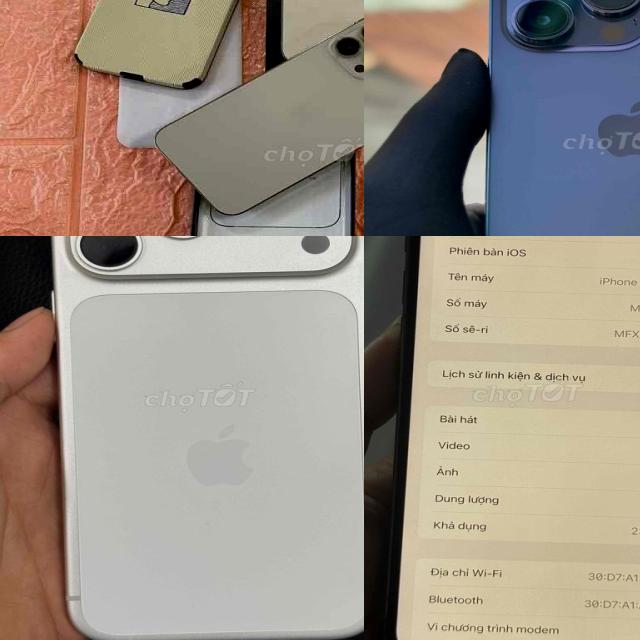gen_12_13: (155, 13, 364, 217)
gen_14: (375, 236, 640, 640), (480, 0, 640, 236)
gen_17: (37, 236, 364, 640)
